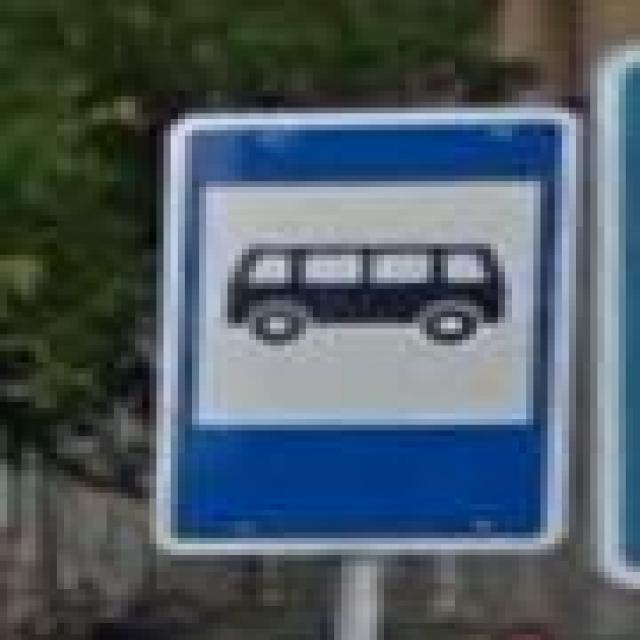traffic_sign: (157, 108, 583, 555)
